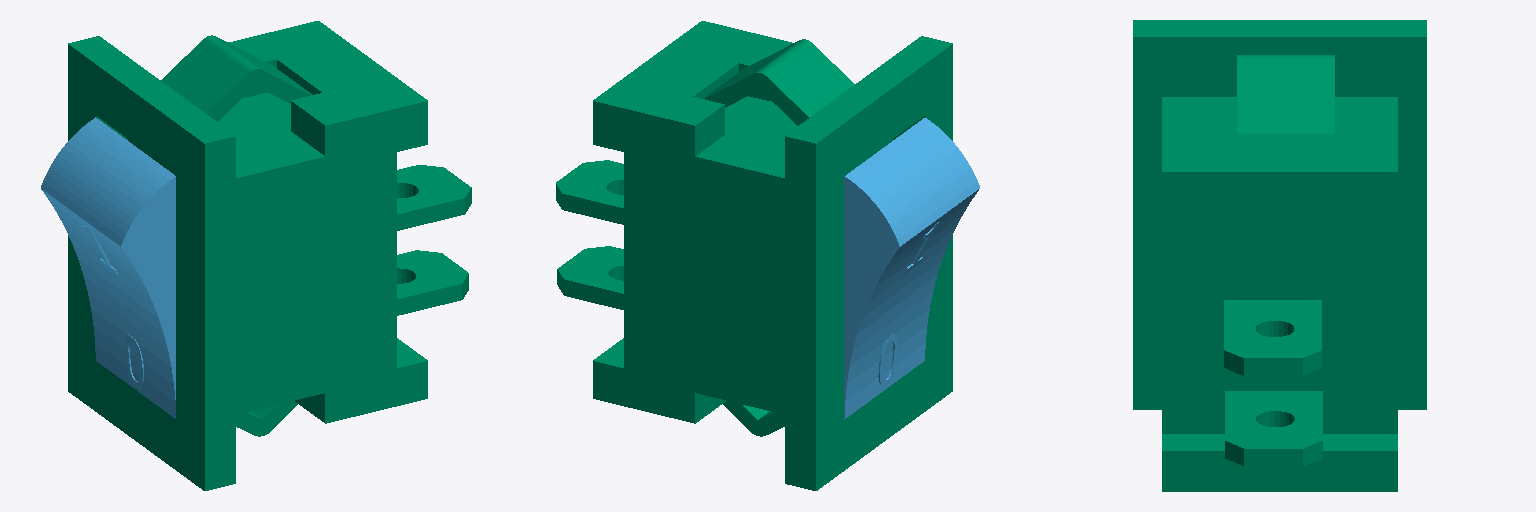
URDF robot description (partnet_fde91a7a776bf6de2cfd1f3cc325066a):
<?xml version="1.0" ?>
<robot name="partnet_fde91a7a776bf6de2cfd1f3cc325066a">
	<link name="base"/>
	<link name="link_0">
		<visual name="switch-1">
			<origin xyz="-0.05022849999999996 0.010858965876808951 -0.041670398045619433"/>
			<geometry>
				<mesh filename="textured_objs/original-8.obj" scale="0.1 0.1 0.1"/>
			</geometry>
		</visual>
		<visual name="switch-1">
			<origin xyz="-0.05022849999999996 0.010858965876808951 -0.041670398045619433"/>
			<geometry>
				<mesh filename="textured_objs/original-9.obj" scale="0.1 0.1 0.1"/>
			</geometry>
		</visual>
		<visual name="switch-1">
			<origin xyz="-0.05022849999999996 0.010858965876808951 -0.041670398045619433"/>
			<geometry>
				<mesh filename="textured_objs/original-4.obj" scale="0.1 0.1 0.1"/>
			</geometry>
		</visual>
		<visual name="switch-1">
			<origin xyz="-0.05022849999999996 0.010858965876808951 -0.041670398045619433"/>
			<geometry>
				<mesh filename="textured_objs/original-3.obj" scale="0.1 0.1 0.1"/>
			</geometry>
		</visual>
		<collision>
			<origin xyz="-0.05022849999999996 0.010858965876808951 -0.041670398045619433"/>
			<geometry>
				<mesh filename="textured_objs/original-8.obj" scale="0.1 0.1 0.1"/>
			</geometry>
		</collision>
		<collision>
			<origin xyz="-0.05022849999999996 0.010858965876808951 -0.041670398045619433"/>
			<geometry>
				<mesh filename="textured_objs/original-9.obj" scale="0.1 0.1 0.1"/>
			</geometry>
		</collision>
		<collision>
			<origin xyz="-0.05022849999999996 0.010858965876808951 -0.041670398045619433"/>
			<geometry>
				<mesh filename="textured_objs/original-4.obj" scale="0.1 0.1 0.1"/>
			</geometry>
		</collision>
		<collision>
			<origin xyz="-0.05022849999999996 0.010858965876808951 -0.041670398045619433"/>
			<geometry>
				<mesh filename="textured_objs/original-3.obj" scale="0.1 0.1 0.1"/>
			</geometry>
		</collision>
	</link>
	<joint name="joint_0" type="revolute">
		<origin xyz="0.05022849999999996 -0.010858965876808951 0.041670398045619433"/>
		<axis xyz="-1 0 0"/>
		<child link="link_0"/>
		<parent link="link_1"/>
		<limit lower="0.0" upper="0.5585053606381855"/>
	</joint>
	<link name="link_1">
		<visual name="base_body-2">
			<origin xyz="0 0 0"/>
			<geometry>
				<mesh filename="textured_objs/original-2.obj" scale="0.1 0.1 0.1"/>
			</geometry>
		</visual>
		<visual name="base_body-2">
			<origin xyz="0 0 0"/>
			<geometry>
				<mesh filename="textured_objs/original-6.obj" scale="0.1 0.1 0.1"/>
			</geometry>
		</visual>
		<visual name="base_body-2">
			<origin xyz="0 0 0"/>
			<geometry>
				<mesh filename="textured_objs/original-7.obj" scale="0.1 0.1 0.1"/>
			</geometry>
		</visual>
		<visual name="base_body-2">
			<origin xyz="0 0 0"/>
			<geometry>
				<mesh filename="textured_objs/original-1.obj" scale="0.1 0.1 0.1"/>
			</geometry>
		</visual>
		<collision>
			<origin xyz="0 0 0"/>
			<geometry>
				<mesh filename="textured_objs/original-2.obj" scale="0.1 0.1 0.1"/>
			</geometry>
		</collision>
		<collision>
			<origin xyz="0 0 0"/>
			<geometry>
				<mesh filename="textured_objs/original-6.obj" scale="0.1 0.1 0.1"/>
			</geometry>
		</collision>
		<collision>
			<origin xyz="0 0 0"/>
			<geometry>
				<mesh filename="textured_objs/original-7.obj" scale="0.1 0.1 0.1"/>
			</geometry>
		</collision>
		<collision>
			<origin xyz="0 0 0"/>
			<geometry>
				<mesh filename="textured_objs/original-1.obj" scale="0.1 0.1 0.1"/>
			</geometry>
		</collision>
	</link>
	<joint name="joint_1" type="fixed">
		<origin rpy="1.570796326794897 0 -1.570796326794897" xyz="0 0 0"/>
		<child link="link_1"/>
		<parent link="base"/>
	</joint>
</robot>

--- Facts derived from the render (not from the file) ---
Views: 3 orthographic renders of the robot side by side, from view 1: azimuth 30°, elevation 25°; view 2: azimuth 150°, elevation 25°; view 3: azimuth 270°, elevation 25°.
Robot: partnet_fde91a7a776bf6de2cfd1f3cc325066a — 3 links, 2 joints (1 revolute, 1 fixed); root link base; default pose: every joint at zero.
Links seen in each view (by area): view 1: link_1, link_0; view 2: link_1, link_0; view 3: link_1.
Link boxes in pixels (x1,y1,x2,y2): link_1: (68,21,471,490); link_0: (41,117,175,418); link_1: (556,21,952,490); link_0: (844,118,979,419); link_1: (1133,20,1426,491).
Bounding box of the posed robot: 0.1616 × 0.1025 × 0.1512 m (x, y, z).
Meshes: 8 distinct files referenced, 8 mesh visuals loaded (8 OBJ).
